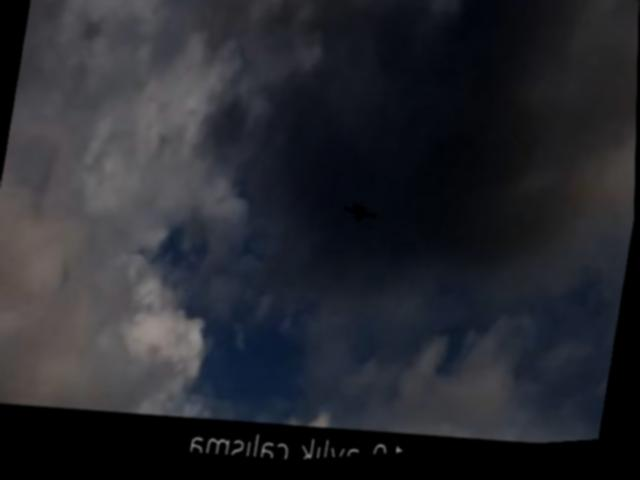uav: (342, 198, 385, 236)
